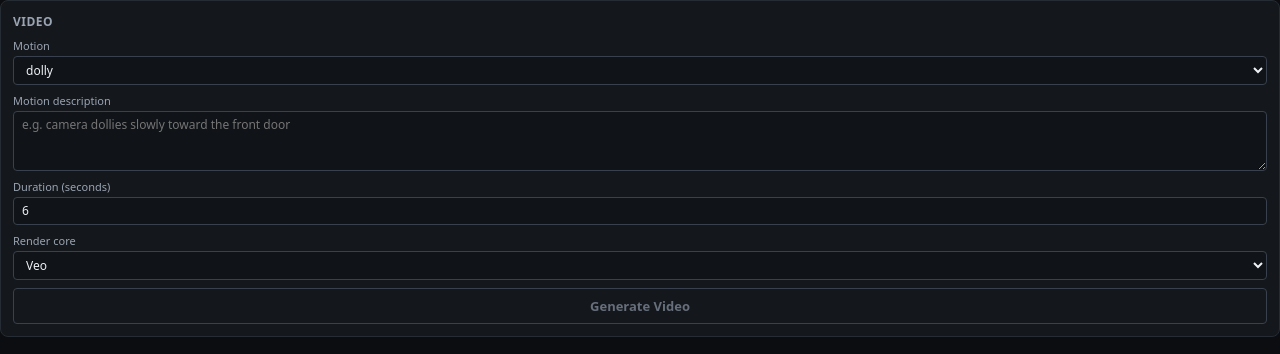
Test: VideoPanel — BUILD 16 Image → Video › renders the real form once a generation exists, disabled until a motion description is filled
This screenshot has width=1280, height=354.
Expected: the button "Generate Video" is disabled, x1=13 y1=288 x2=1267 y2=324
In the text box labelled "Motion description": (640, 141) x1=13 y1=111 x2=1267 y2=171, type "camera dollies toward the entrance"
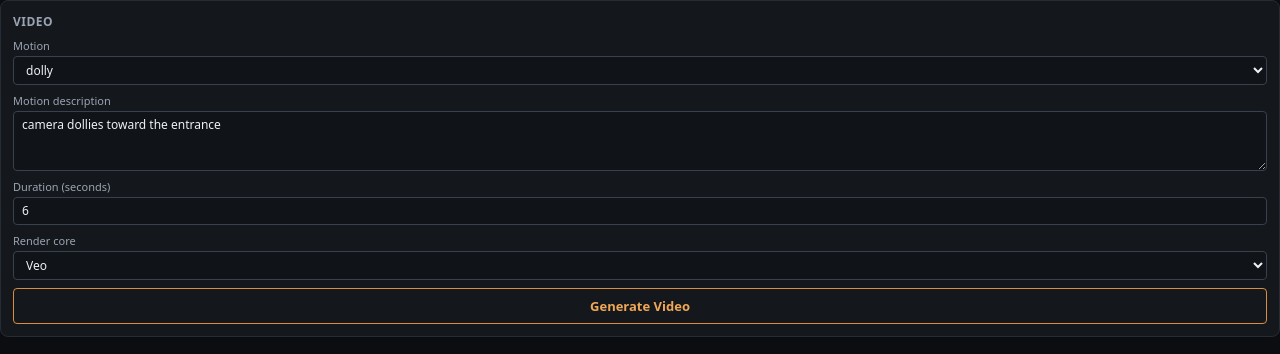
Expected: the button "Generate Video" is enabled, x1=13 y1=288 x2=1267 y2=324
